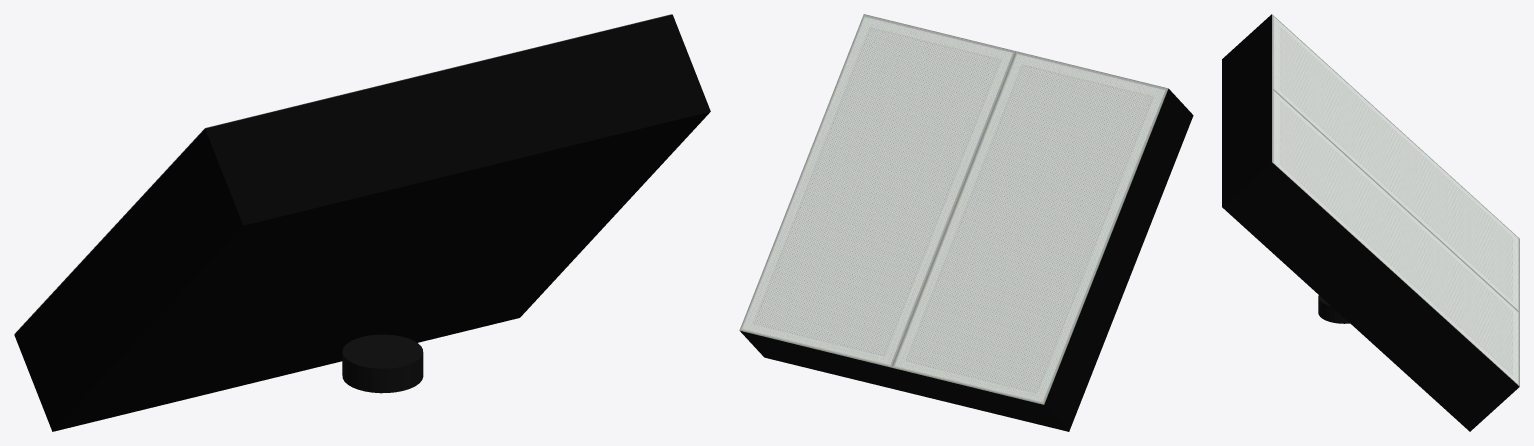
File: angled_panel.glb
3 views of the same model, side by side, from view 1: azimuth 30°, elevation 25°; view 2: azimuth 150°, elevation 25°; view 3: azimuth 270°, elevation 25° (orthographic). The views are drawn at different scales.
Parts seen in each view (by area): view 1: Cube, Cylinder, panel; view 2: panel, Cube; view 3: panel, Cube, Cylinder.
Boxes of the visible parts, box(x1,y1,x2,y2) form: Cube: box(14, 14, 710, 431); Cylinder: box(342, 334, 423, 393); panel: box(14, 14, 671, 334); panel: box(739, 14, 1168, 404); Cube: box(740, 88, 1193, 431); panel: box(1272, 14, 1519, 386); Cube: box(1222, 14, 1519, 431); Cylinder: box(1318, 295, 1349, 323).
Size of what is drawn, in the model's own units: 2 by 1.7 by 1.7.
Materials: 3 (1 with a texture image).
